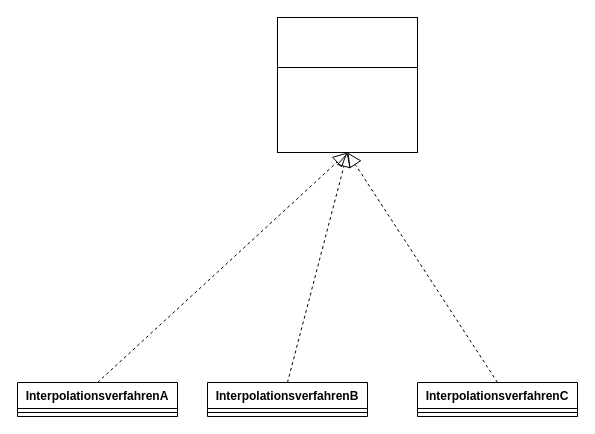
The diagram is 595 pixels wide and 434 high, and some of its shapes have lost their labels. Each missing label, with the centre of its shape:
+Interpolation() +getInterpolant() +getCoefficients() +evaluate(): (347,109)
«interface» Interpolation: (347,42)
